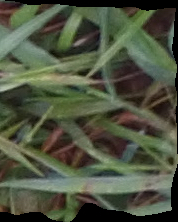grass: (1, 1, 176, 221)
